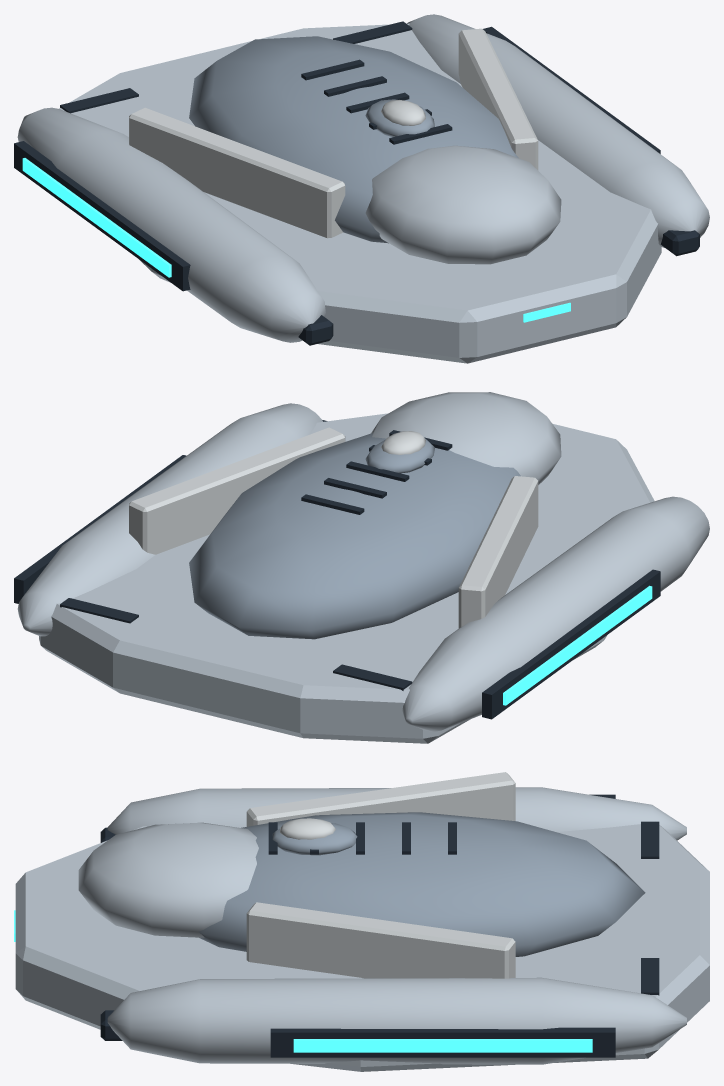
File: compact-escort_LOD1.fbx
The picture shows the model from 3 angles, top to bottom: view 1: azimuth 30°, elevation 25°; view 2: azimuth 150°, elevation 25°; view 3: azimuth 270°, elevation 25°; orthographic projection. The views are drawn at different scales.
Visible parts, largest first — view 1: compact-escort_Hull_LOD1, compact-escort_PortNacelle_LOD1, compact-escort_StarboardNacelle_LOD1; view 2: compact-escort_Hull_LOD1, compact-escort_PortNacelle_LOD1, compact-escort_StarboardNacelle_LOD1; view 3: compact-escort_Hull_LOD1, compact-escort_StarboardNacelle_LOD1, compact-escort_PortNacelle_LOD1.
Part boxes in pixels (x1=…): compact-escort_Hull_LOD1: x1=59, y1=21, x2=699, y2=363; compact-escort_PortNacelle_LOD1: x1=14, y1=107, x2=325, y2=342; compact-escort_StarboardNacelle_LOD1: x1=407, y1=14, x2=709, y2=247; compact-escort_Hull_LOD1: x1=39, y1=392, x2=654, y2=743; compact-escort_PortNacelle_LOD1: x1=402, y1=496, x2=709, y2=731; compact-escort_StarboardNacelle_LOD1: x1=14, y1=403, x2=322, y2=636; compact-escort_Hull_LOD1: x1=15, y1=772, x2=709, y2=1071; compact-escort_StarboardNacelle_LOD1: x1=107, y1=977, x2=686, y2=1064; compact-escort_PortNacelle_LOD1: x1=107, y1=787, x2=686, y2=840.
Size of the model in its own units: 13917 by 3837 by 17000.
